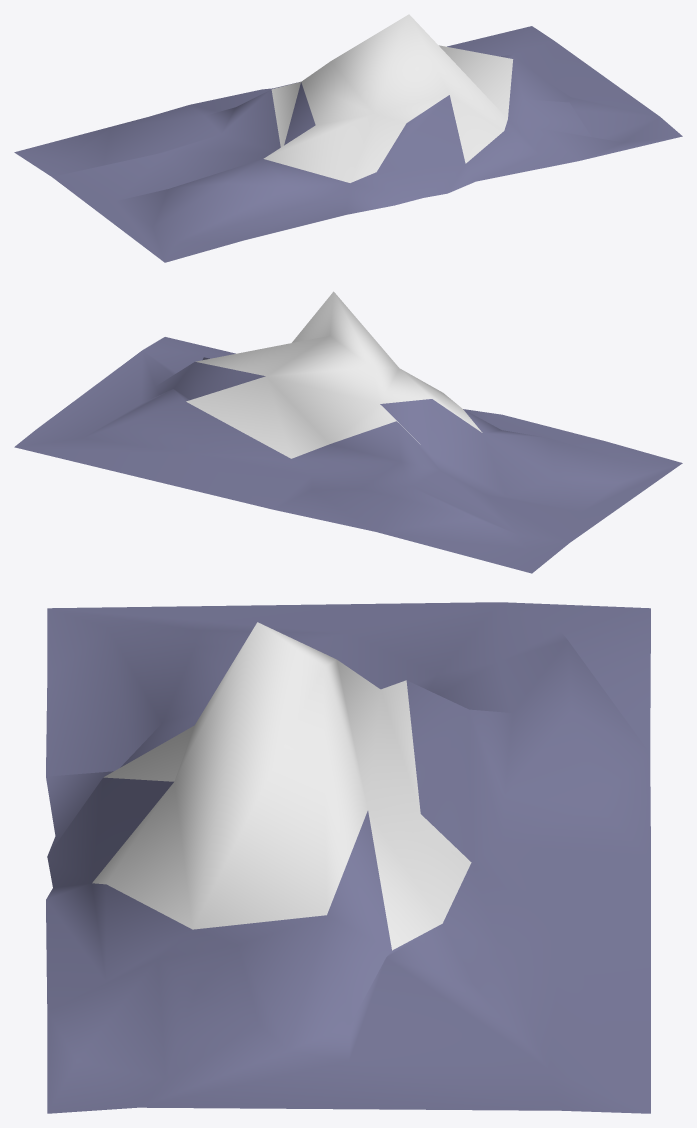
File: Mountain4.fbx
The picture shows the model from 3 angles, top to bottom: view 1: azimuth 30°, elevation 25°; view 2: azimuth 150°, elevation 25°; view 3: azimuth 270°, elevation 25°; orthographic projection. The views are drawn at different scales.
Parts seen in each view (by area): view 1: Mountain4; view 2: Mountain4; view 3: Mountain4.
Boxes of the visible parts, left/top/right/bottom form: Mountain4: left=14, top=14, right=682, bottom=262; Mountain4: left=14, top=291, right=682, bottom=573; Mountain4: left=46, top=602, right=650, bottom=1113.
Size of the model in its own units: 401 by 111 by 203.
